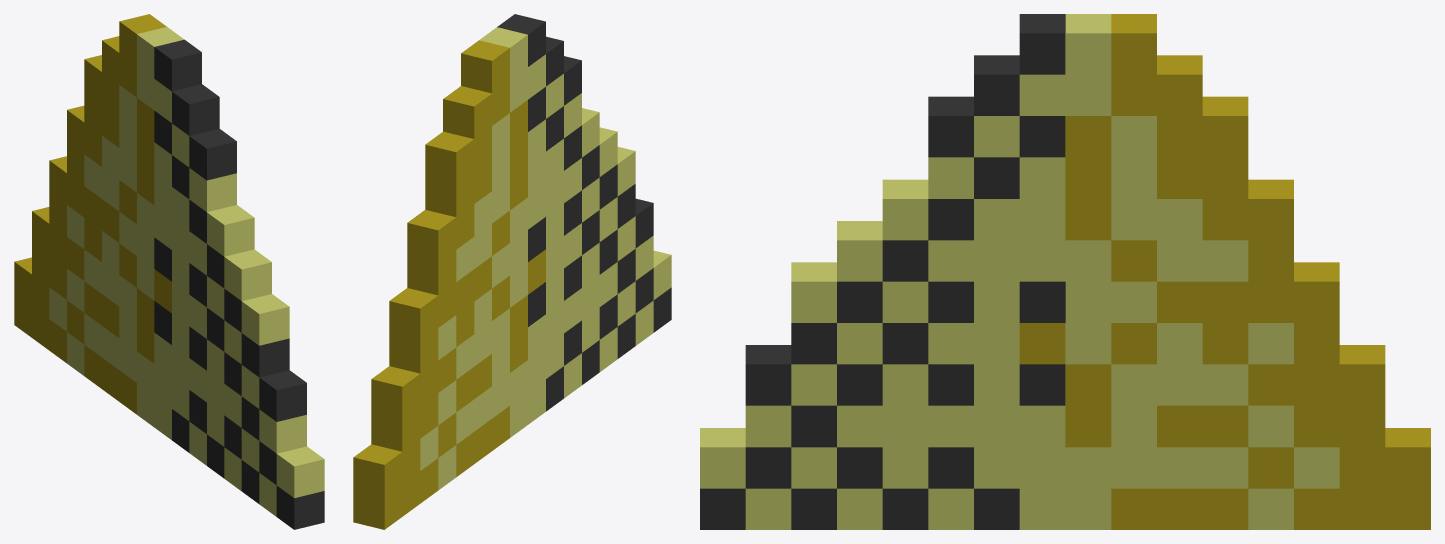
File: Gold3.obj
3 renders of one model, left to right at view 1: azimuth 30°, elevation 25°; view 2: azimuth 150°, elevation 25°; view 3: azimuth 270°, elevation 25°, orthographic. The views are drawn at different scales.
Size of the model in its own units: 0.1 by 1.2 by 1.6.
Materials: 1 (1 with a texture image).
